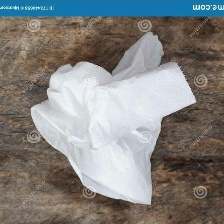tissue: (25, 28, 200, 210)
